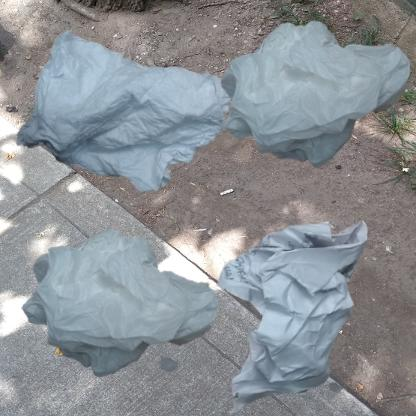bolsa: (10, 213, 246, 412), (213, 10, 416, 182)
papel: (10, 10, 278, 246), (213, 213, 378, 416)
